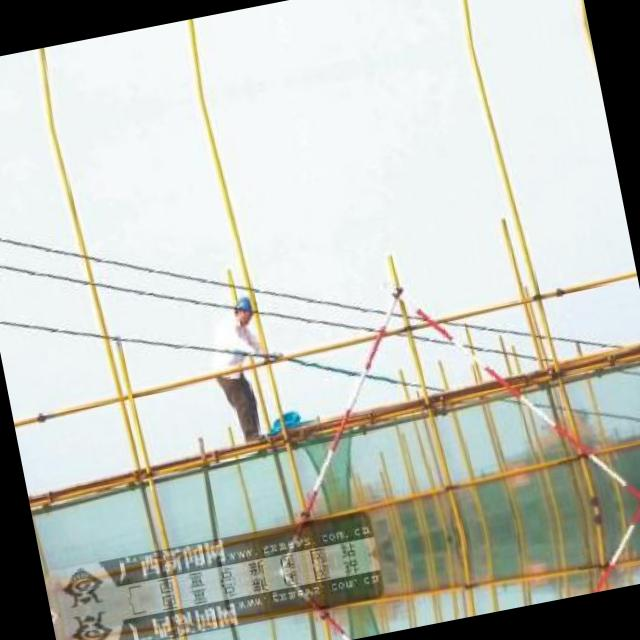helmet: (224, 293, 262, 330)
